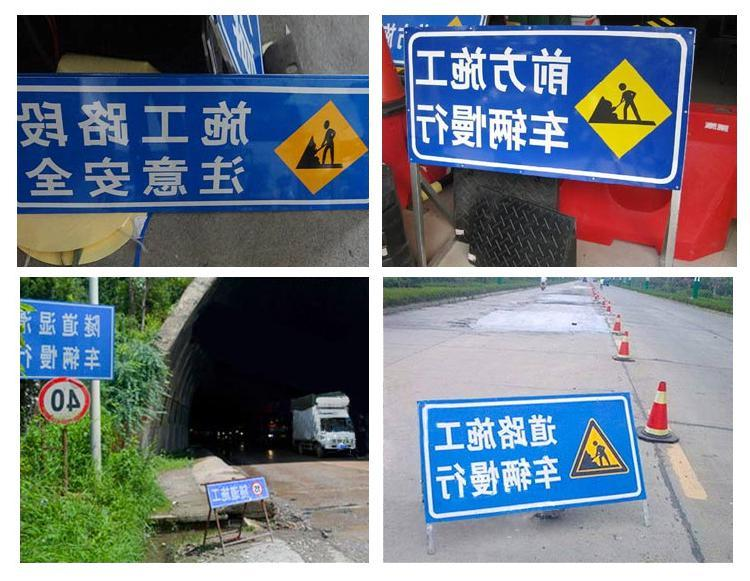sign: (407, 30, 693, 188), (15, 83, 369, 210), (419, 390, 639, 520), (207, 473, 271, 510)
